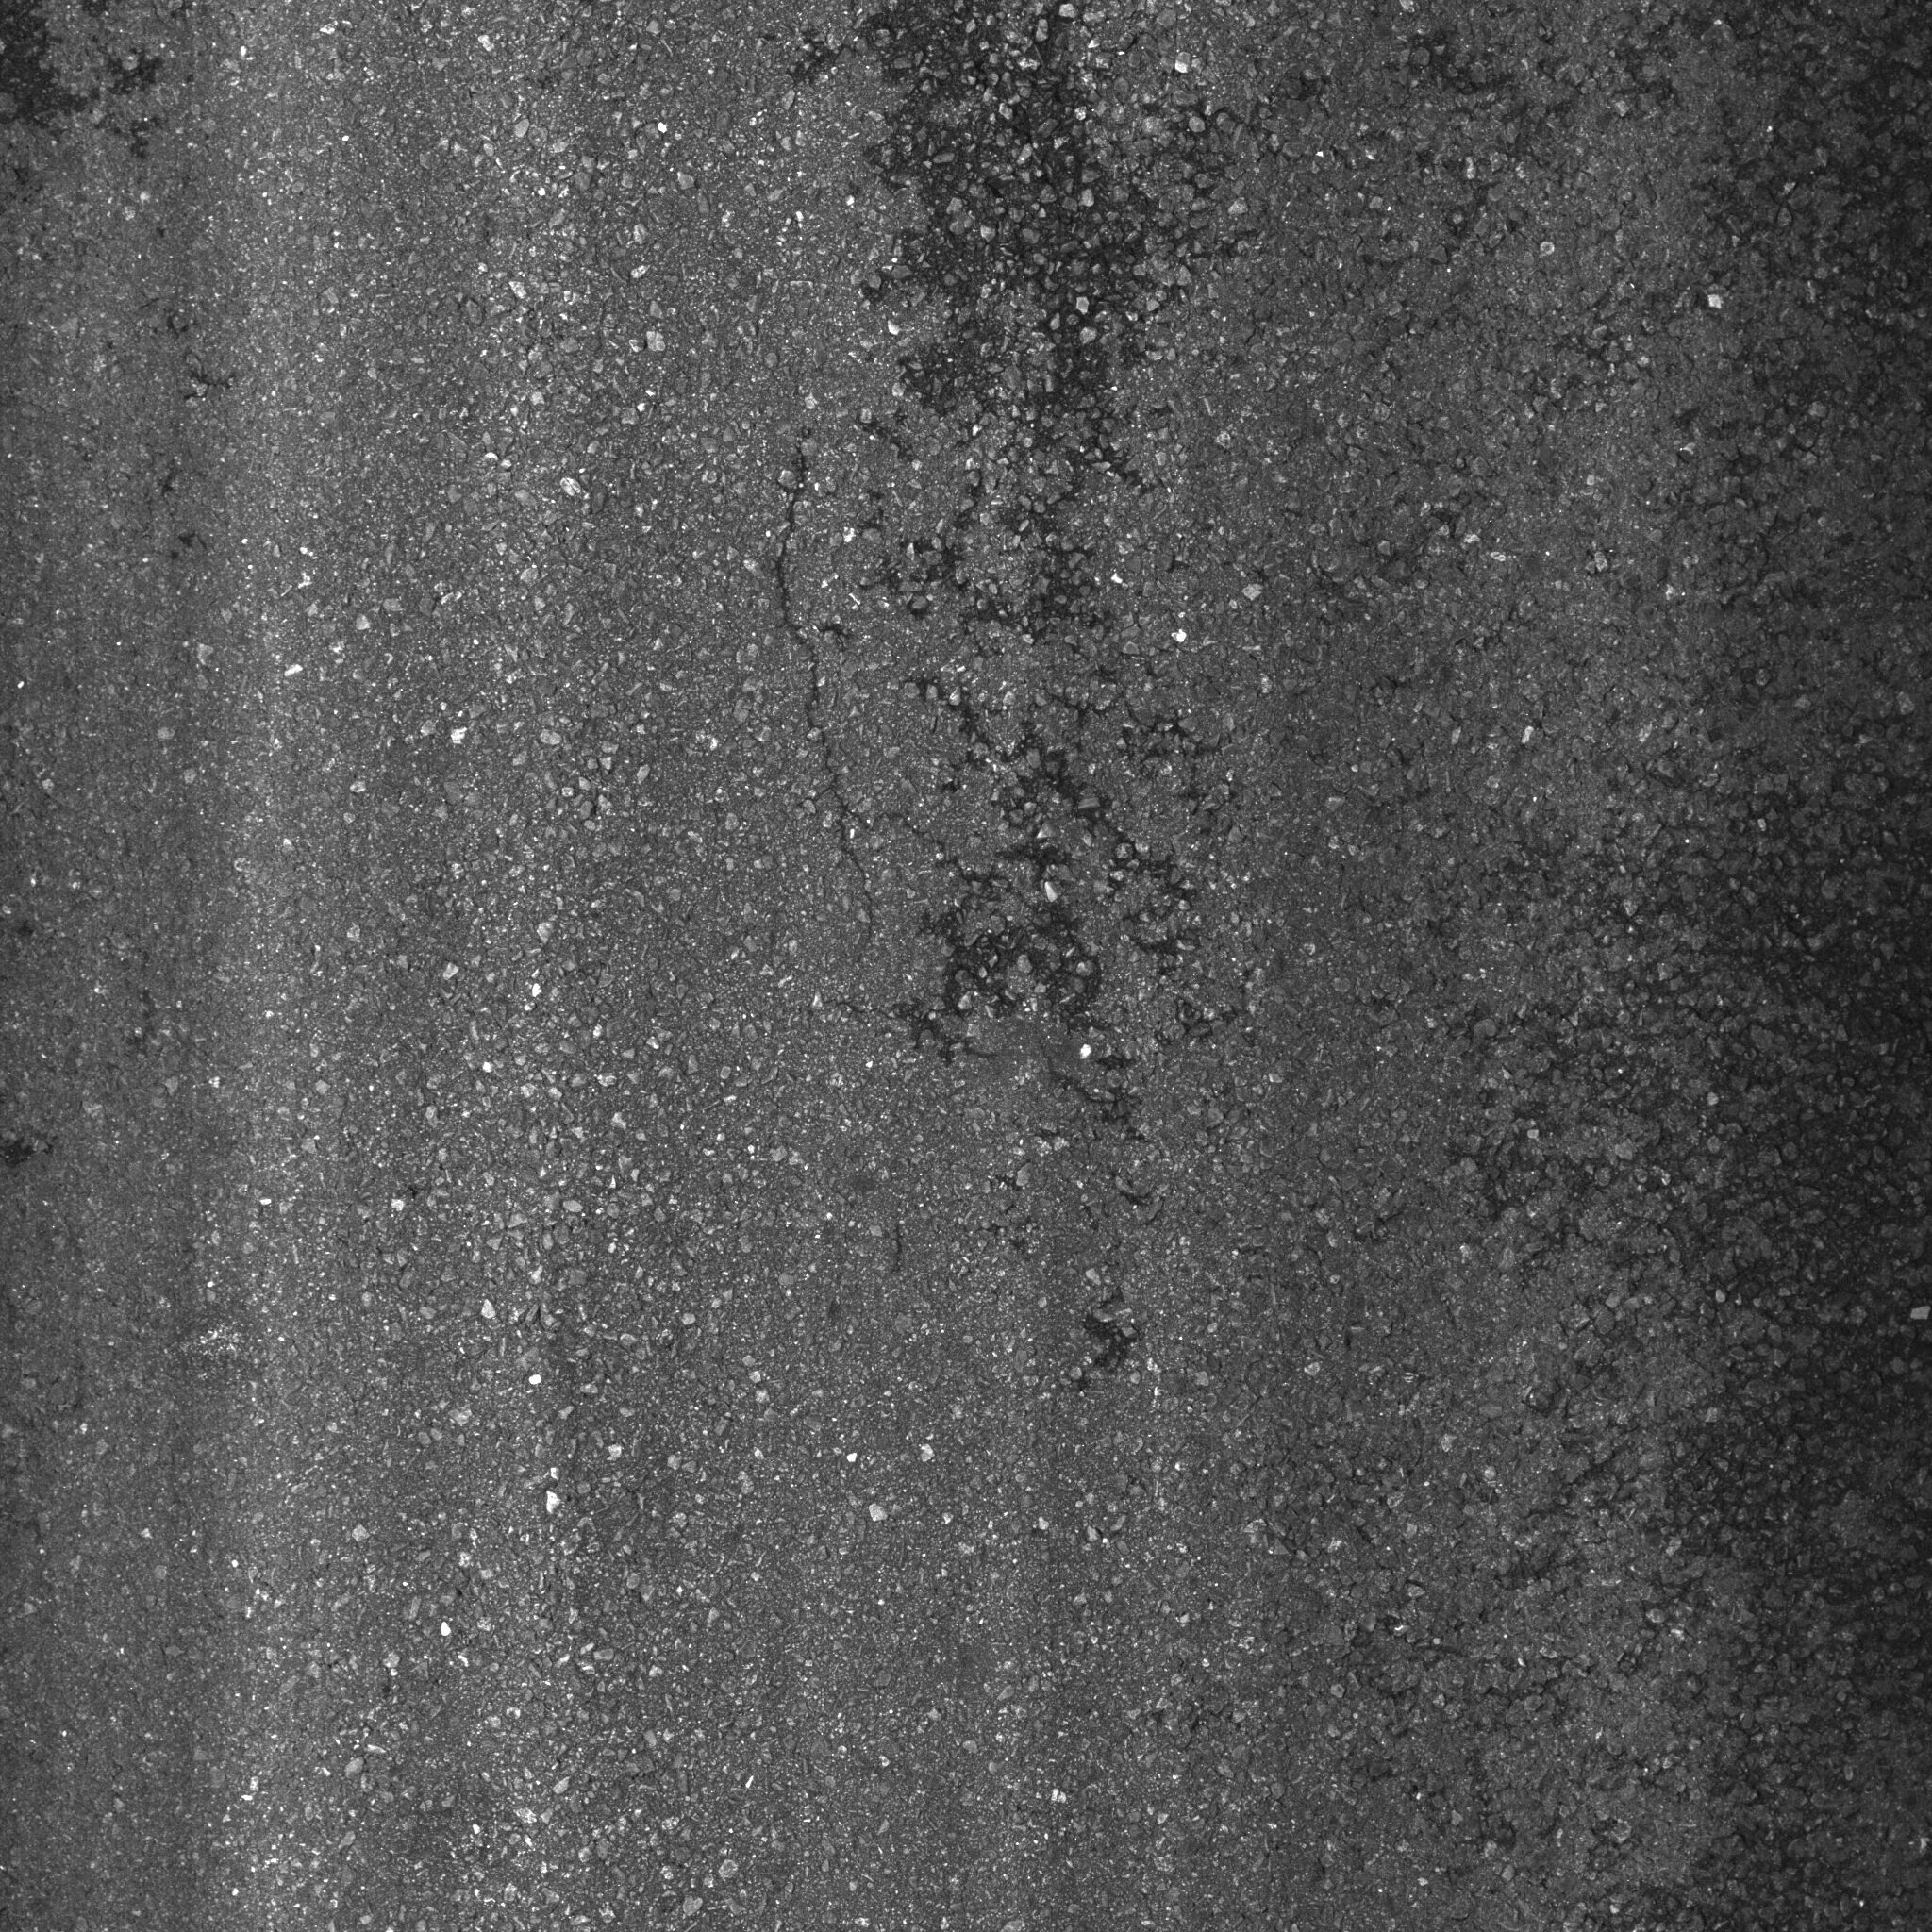longitudinal: (757, 366, 908, 1076)
